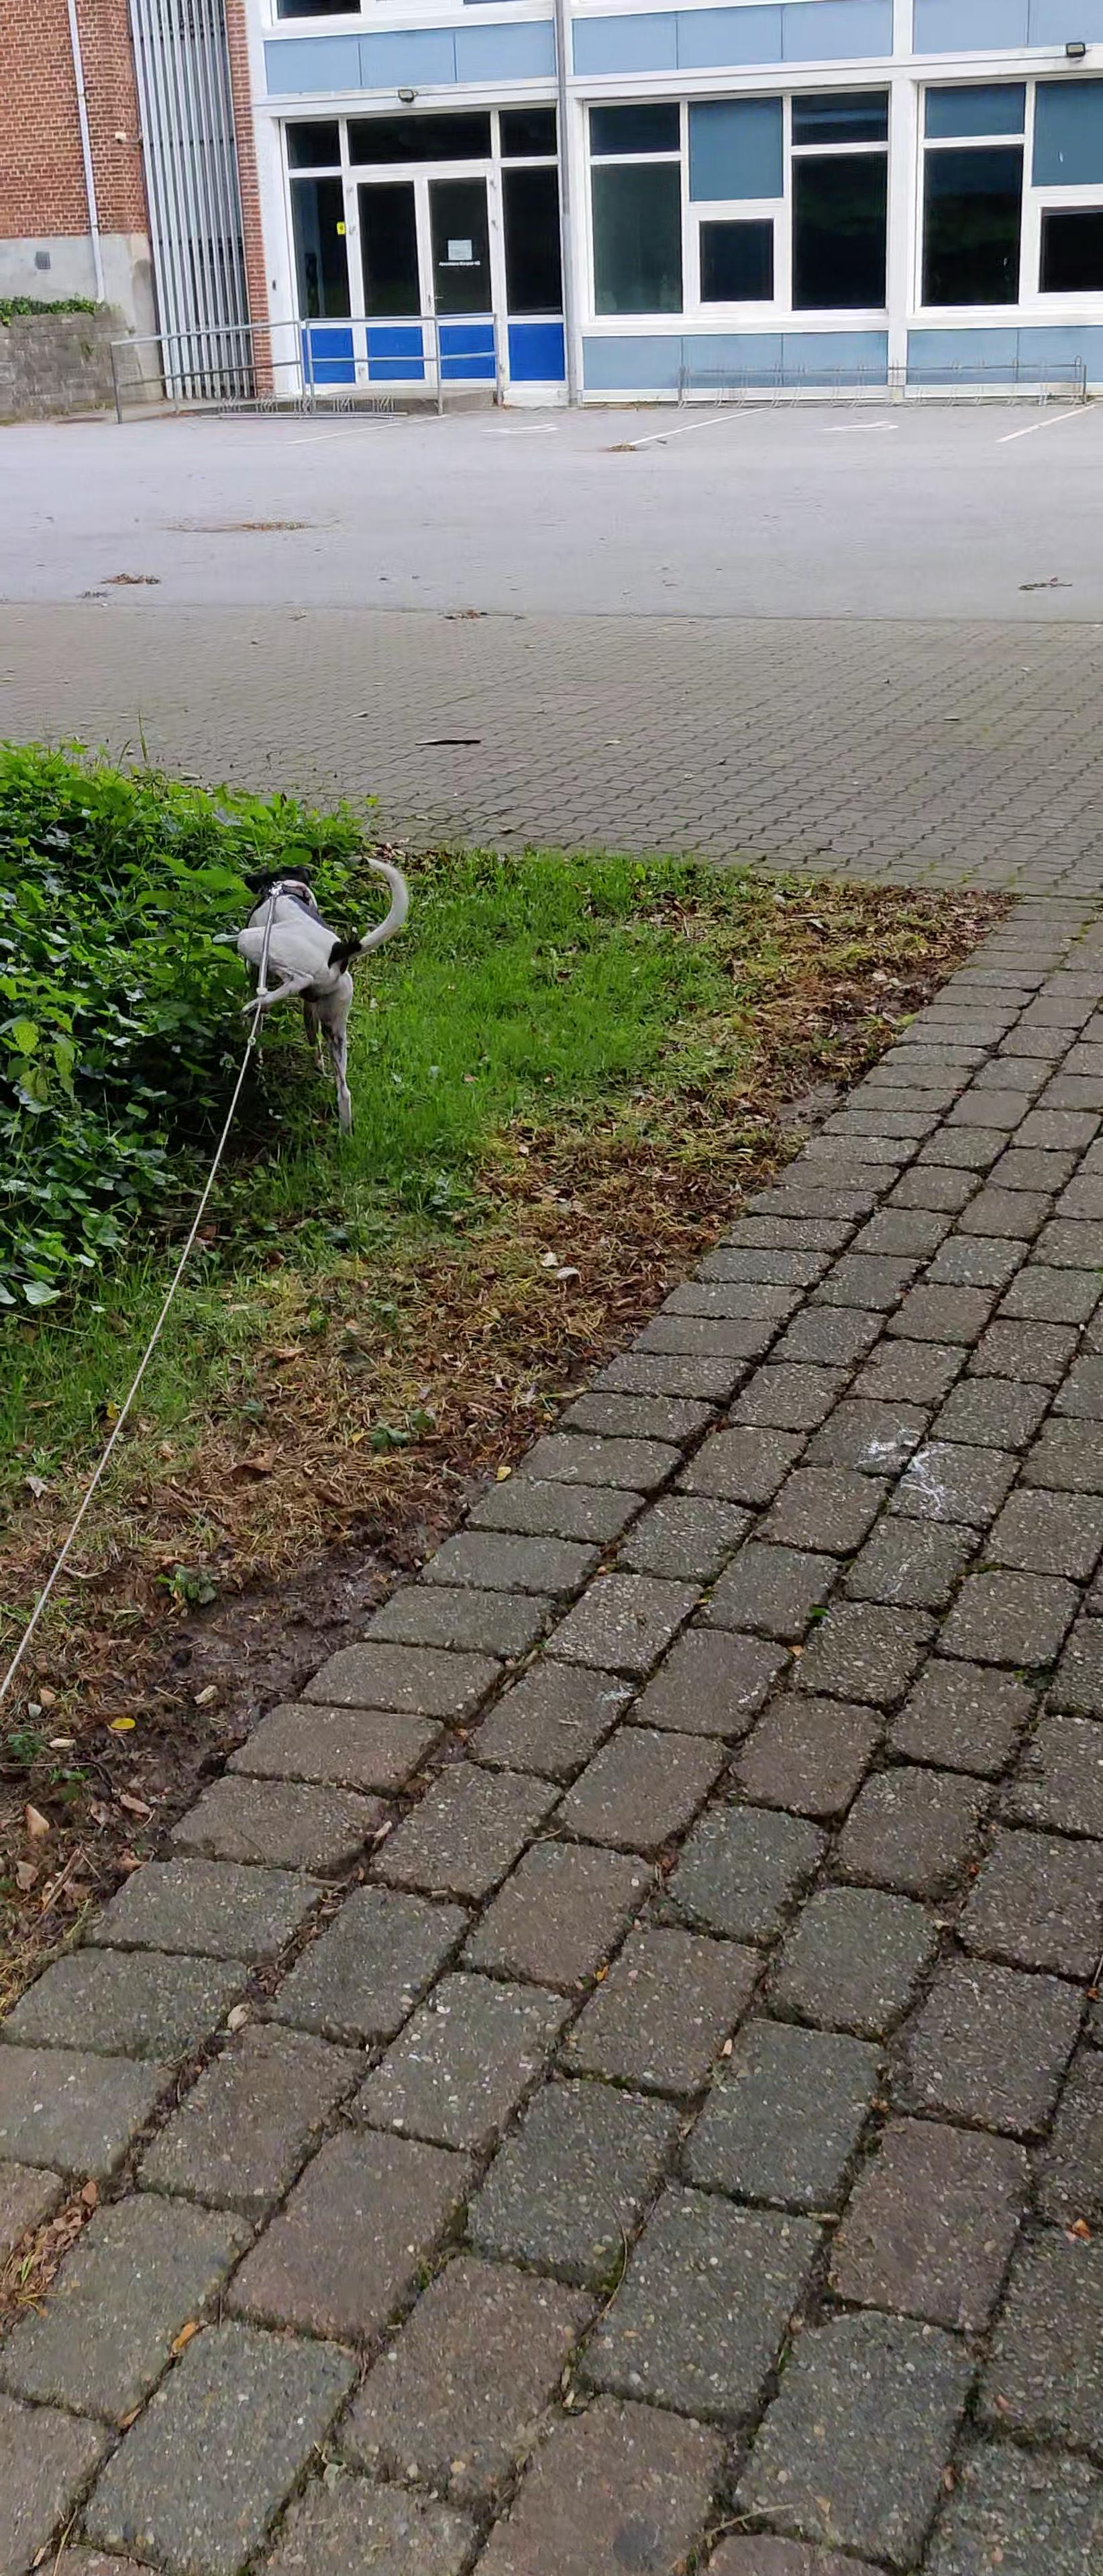Dog: (209, 843, 419, 1138)
